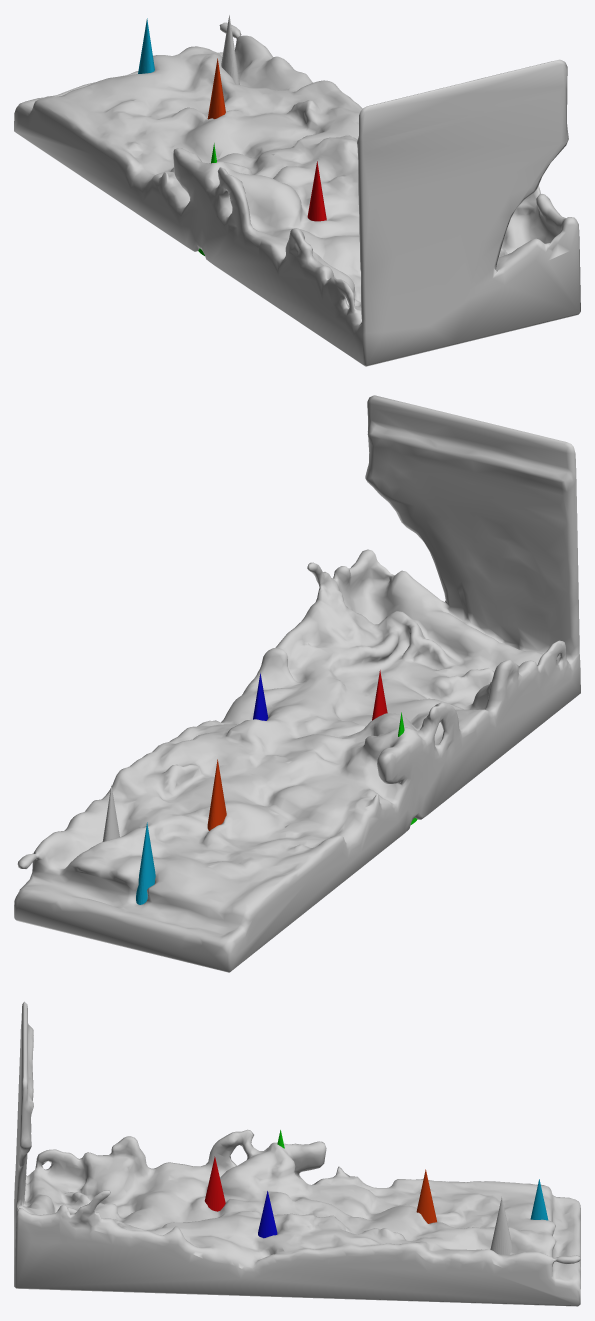
The picture shows the model from 3 angles, top to bottom: view 1: azimuth 30°, elevation 25°; view 2: azimuth 150°, elevation 25°; view 3: azimuth 270°, elevation 25°; orthographic projection. The views are drawn at different scales.
Parts seen in each view (by area): view 1: Liquid_Domain, 円錐.001, 円錐, 円錐.004, 円錐.005; view 2: Liquid_Domain, 円錐.005, 円錐.004; view 3: Liquid_Domain, 円錐, 円錐.001, 円錐.004, 円錐.002, 円錐.005.
Boxes of the visible parts, x1=… form: Liquid_Domain: x1=14, y1=22, x2=580, y2=366; 円錐.001: x1=307, y1=161, x2=326, y2=221; 円錐: x1=221, y1=15, x2=239, y2=84; 円錐.004: x1=207, y1=58, x2=225, y2=119; 円錐.005: x1=138, y1=18, x2=154, y2=73; Liquid_Domain: x1=14, y1=395, x2=580, y2=972; 円錐.005: x1=136, y1=822, x2=155, y2=904; 円錐.004: x1=207, y1=759, x2=226, y2=830; Liquid_Domain: x1=14, y1=1001, x2=580, y2=1306; 円錐: x1=490, y1=1197, x2=511, y2=1254; 円錐.001: x1=204, y1=1156, x2=225, y2=1211; 円錐.004: x1=416, y1=1169, x2=436, y2=1223; 円錐.002: x1=258, y1=1191, x2=277, y2=1238; 円錐.005: x1=530, y1=1179, x2=548, y2=1220.
Size of the model in its own units: 129 by 158 by 361.
